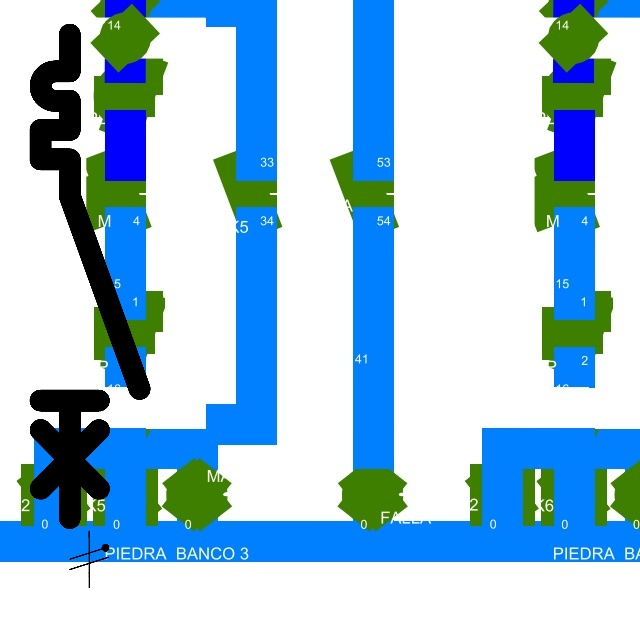interruptor_termomagnetico: (28, 22, 152, 531)
